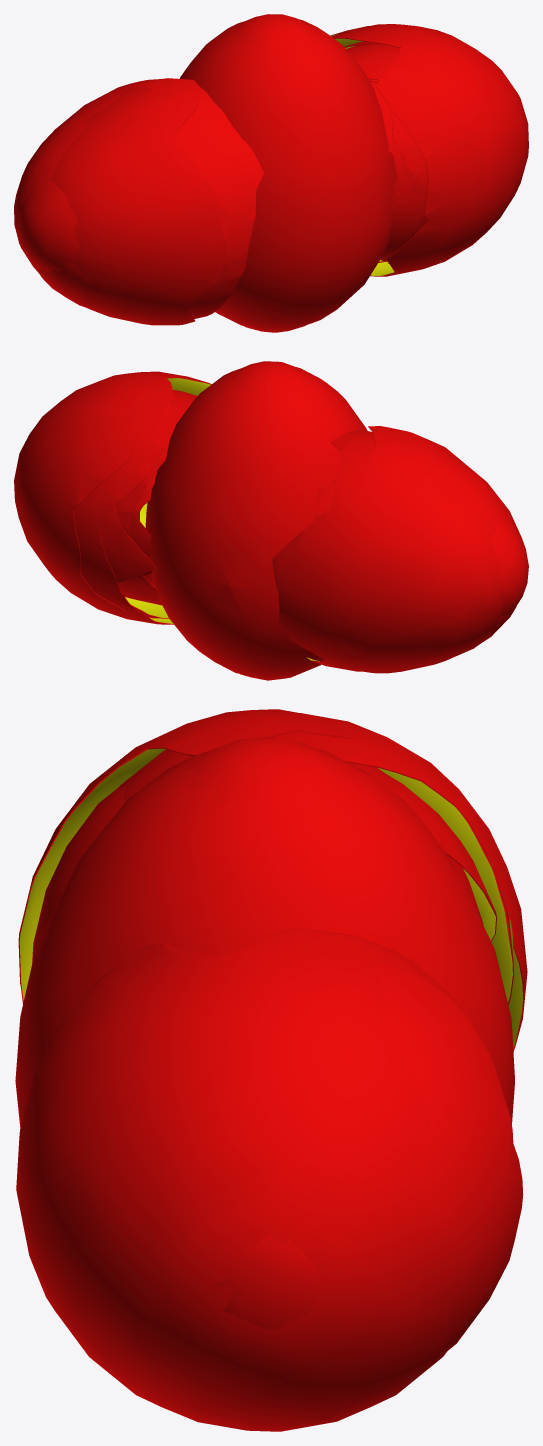
File: eggs_grp.fbx
The picture shows the model from 3 angles, top to bottom: view 1: azimuth 30°, elevation 25°; view 2: azimuth 150°, elevation 25°; view 3: azimuth 270°, elevation 25°; orthographic projection. The views are drawn at different scales.
Parts seen in each view (by area): view 1: egg_2, egg_2_shell_1, egg_2_shell_2, egg_20_shell_1, egg_30_shell_1, egg_29_shell_1, egg_29_shell_2, egg_29, egg_18_shell_2, egg_3_shell_2, egg_13_shell_2, egg_9_shell_2; view 2: egg_2, egg_30_shell_1, egg_2_shell_2, egg_30_shell_2, egg_2_shell_1, egg_18_shell_2, egg_29_shell_2, egg_29_shell_1, egg_29, egg_3_shell_2, egg_18_shell_1; view 3: egg_2_shell_2, egg_2, egg_30_shell_2, egg_2_shell_1, egg_30_shell_1, egg_29, egg_29_shell_2, egg_20_shell_1, egg_18_shell_1.
Part boxes in pixels (left/top/right/bottom): egg_2: left=179, top=19, right=396, bottom=330; egg_2_shell_1: left=51, top=87, right=229, bottom=325; egg_2_shell_2: left=332, top=24, right=528, bottom=276; egg_20_shell_1: left=31, top=137, right=263, bottom=318; egg_30_shell_1: left=14, top=78, right=240, bottom=272; egg_29_shell_1: left=18, top=180, right=79, bottom=272; egg_29_shell_2: left=346, top=43, right=429, bottom=238; egg_29: left=235, top=14, right=314, bottom=332; egg_18_shell_2: left=370, top=81, right=425, bottom=262; egg_3_shell_2: left=381, top=98, right=426, bottom=194; egg_13_shell_2: left=388, top=142, right=411, bottom=196; egg_9_shell_2: left=347, top=44, right=426, bottom=192; egg_2: left=145, top=367, right=367, bottom=678; egg_30_shell_1: left=272, top=430, right=502, bottom=672; egg_2_shell_2: left=14, top=371, right=211, bottom=624; egg_30_shell_2: left=19, top=416, right=140, bottom=613; egg_2_shell_1: left=358, top=426, right=519, bottom=673; egg_18_shell_2: left=100, top=506, right=168, bottom=618; egg_29_shell_2: left=115, top=390, right=196, bottom=605; egg_29_shell_1: left=491, top=521, right=528, bottom=615; egg_29: left=229, top=361, right=309, bottom=680; egg_3_shell_2: left=129, top=511, right=150, bottom=552; egg_18_shell_1: left=313, top=484, right=335, bottom=519; egg_2_shell_2: left=16, top=927, right=475, bottom=1431; egg_2: left=15, top=748, right=514, bottom=1127; egg_30_shell_2: left=371, top=961, right=523, bottom=1355; egg_2_shell_1: left=18, top=709, right=513, bottom=1004; egg_30_shell_1: left=118, top=713, right=527, bottom=1051; egg_29: left=184, top=737, right=346, bottom=810; egg_29_shell_2: left=212, top=952, right=323, bottom=1329; egg_20_shell_1: left=32, top=763, right=483, bottom=963; egg_18_shell_1: left=380, top=773, right=496, bottom=941.
Size of the model in its own units: 19.76 by 11.76 by 8.89.
